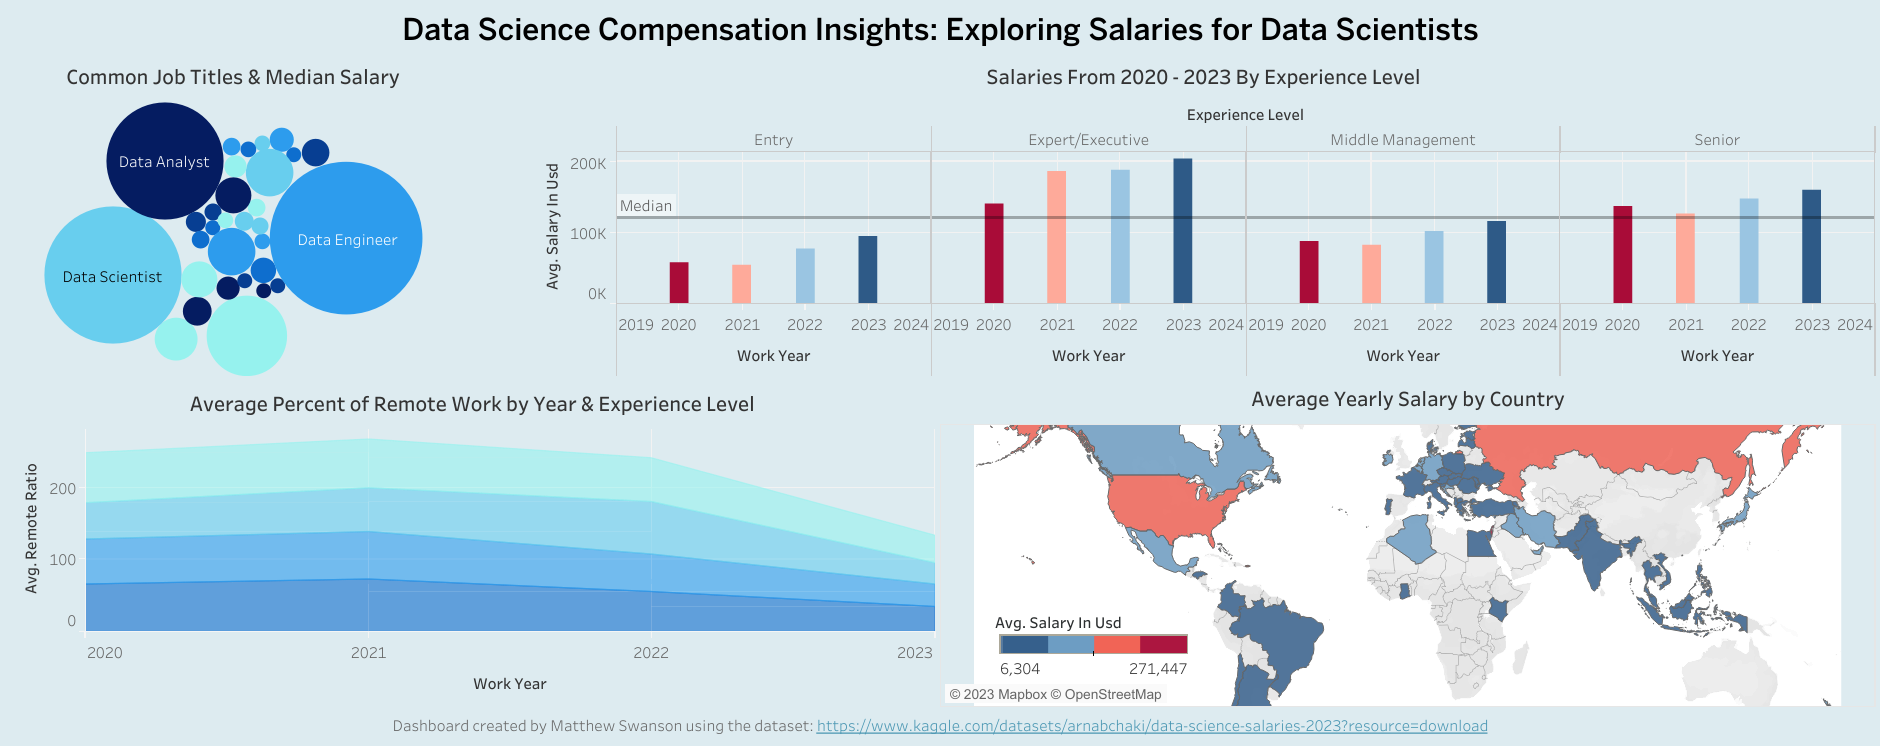

Layout of this report page (visuals, bound fields, positions):
{"tool":"tableau","page":{"name":"Data Science Compensation Dashboard","canvas":[1000,1000],"units":"permille","ordinal":0},"visuals":[{"type":"title","box":[3,5.9,994,57.4]},{"type":"worksheet","title":"Job Title Frequency","mark":"Circle","box":[3,63.3,279.4,435.9]},{"type":"worksheet","title":"Yearly Salaries by Experience Level","mark":"Bar","rows":["salary_in_usd"],"cols":["experience_level","work_year"],"box":[282.4,63.3,714.6,435.9]},{"type":"worksheet","title":"%Remote Work Done","mark":"Area","rows":["remote_ratio"],"cols":["work_year"],"box":[3,499.3,496.6,447.7]},{"type":"worksheet","title":"Yearly Salary by Country","mark":"Multipolygon","box":[499.6,499.3,497.4,447.7]},{"type":"legend","title":"Yearly Salary by Country","param":"[federated.1tj6k140demojj1cgr5xg1o828dh].[avg:salary_in_usd:qk]","box":[529.1,808.5,105.7,111.9]},{"type":"text","box":[3,947,994,47.1]}]}

Visuals, with their boxes on the dashboard's canvas, which has no fixed pixel size, in thousandths of its width and height (x1, y1, x2, y2). These are canvas units, not pixel positions in the 1880x746 screenshot, which may show the page scaled, cropped or inside an application window:
title: 3:6:997:63
"Job Title Frequency" worksheet (Circle marks): 3:63:282:499
"Yearly Salaries by Experience Level" worksheet (Bar marks): 282:63:997:499
"%Remote Work Done" worksheet (Area marks): 3:499:500:947
"Yearly Salary by Country" worksheet (Multipolygon marks): 500:499:997:947
"Yearly Salary by Country" legend: 529:808:635:920
text: 3:947:997:994
